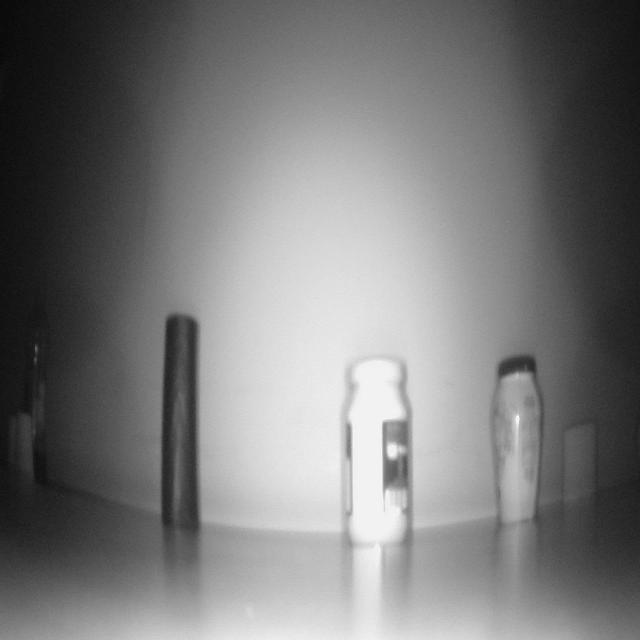targets: (342, 354, 413, 546), (158, 314, 204, 534), (488, 351, 543, 525), (29, 274, 55, 483), (561, 420, 602, 504), (9, 408, 37, 485)
